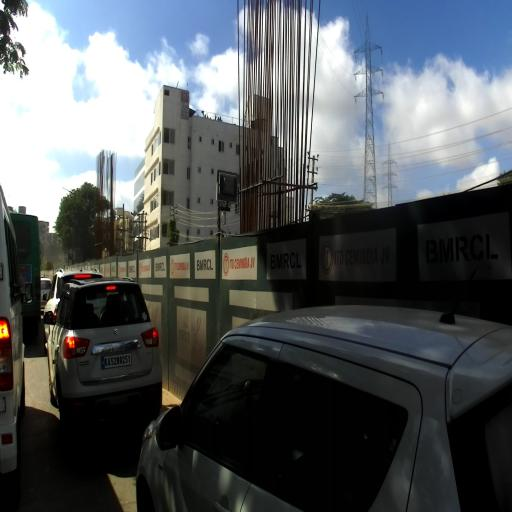street_light_0: (61, 186, 76, 196), (74, 190, 88, 197)
